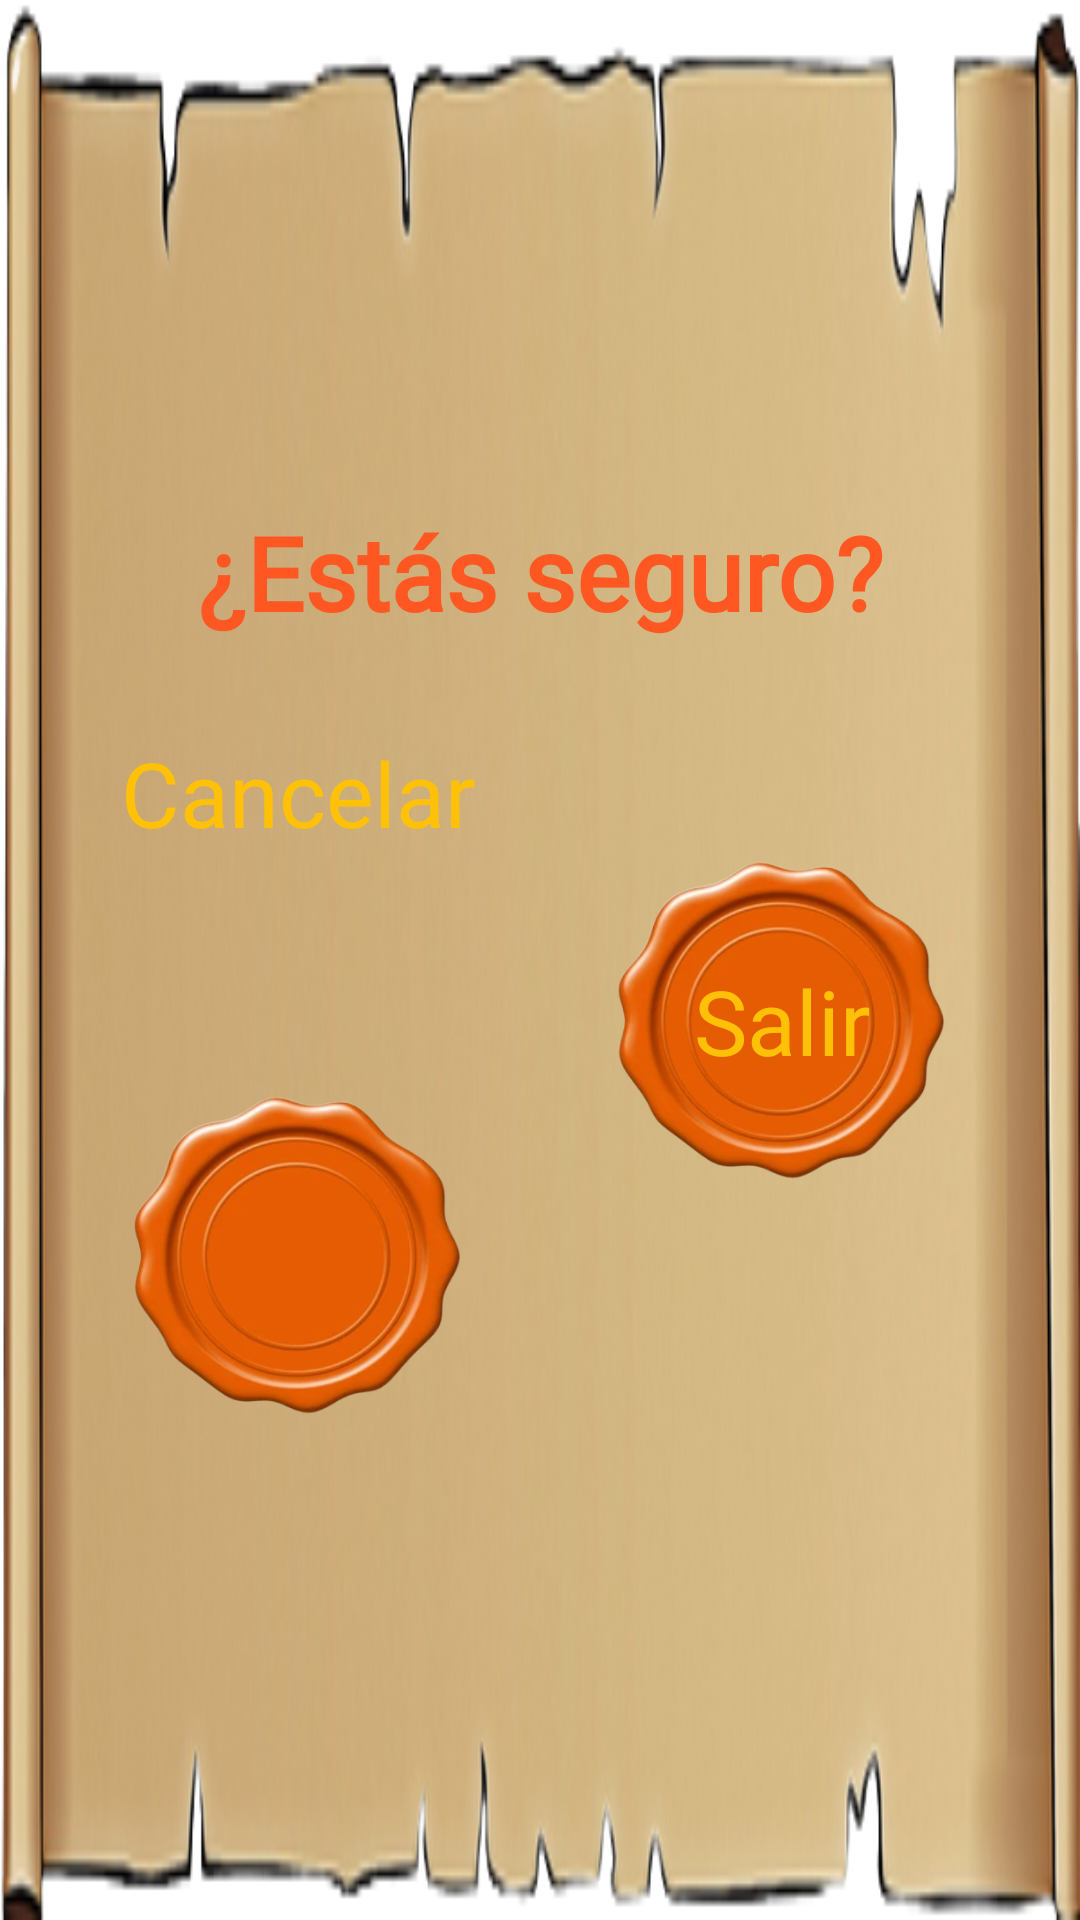

Where icons sit on this 1080×1920 app screen, as [left=x1, top=y1, right=x2, bottom=y2]:
sello: [left=618, top=863, right=944, bottom=1178], [left=135, top=1098, right=460, bottom=1413]
